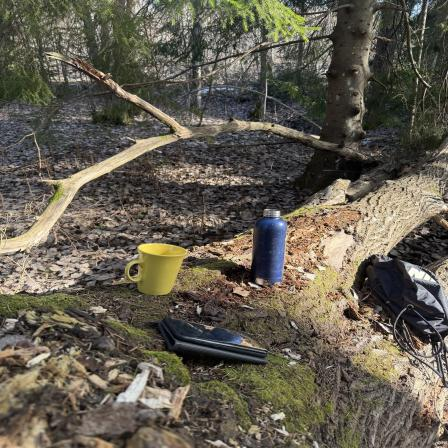blue_bottle: (252, 207, 288, 285)
phone: (161, 318, 269, 368)
yellow_cup: (124, 242, 186, 297)
